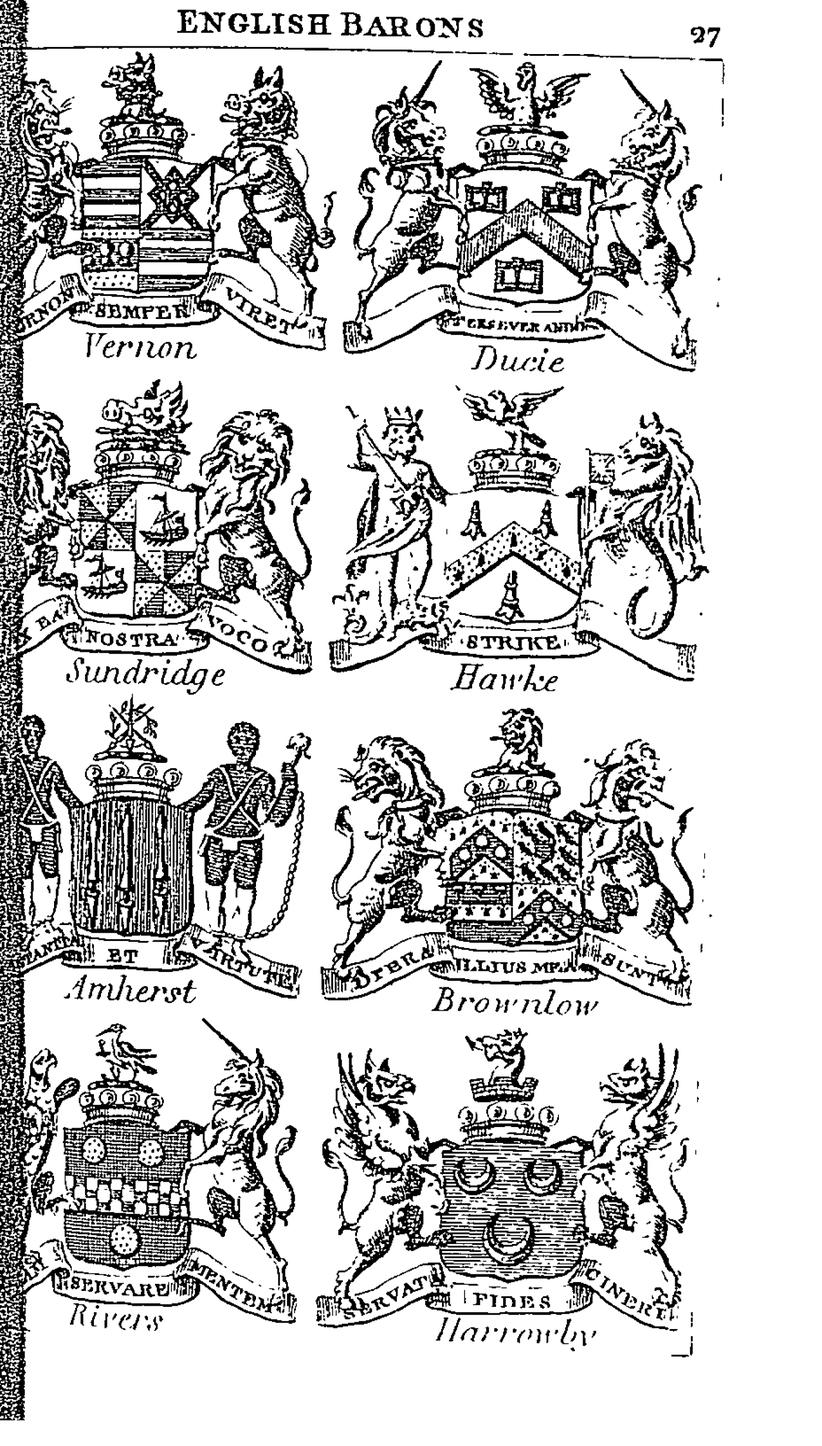coat_of_arms: (325, 1026, 714, 1361), (331, 52, 711, 386), (323, 390, 708, 709), (328, 711, 715, 1023), (1, 49, 328, 379), (8, 1013, 317, 1348), (4, 378, 315, 702), (4, 695, 313, 1006)
